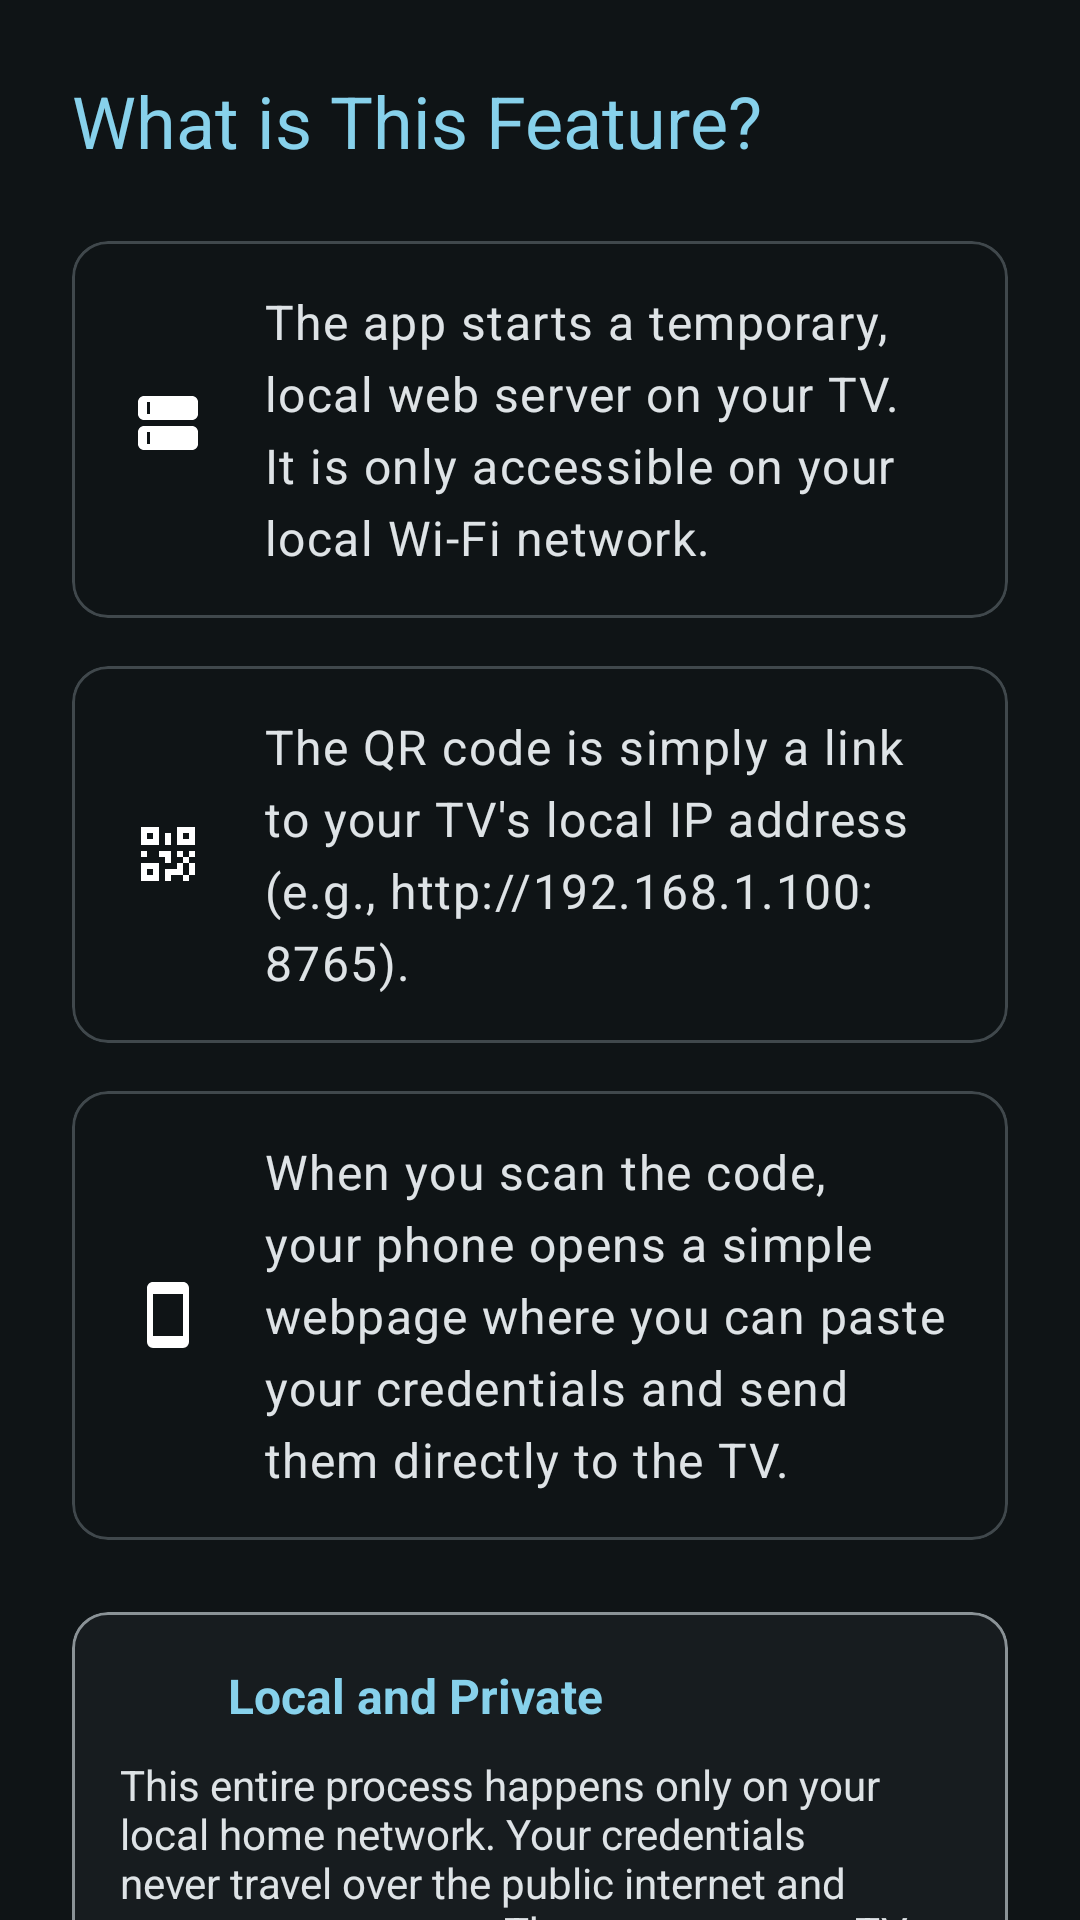

Where to tap for icons on this 1080*1920 app screen, as (x,y):
cellphone: (168,1315)
